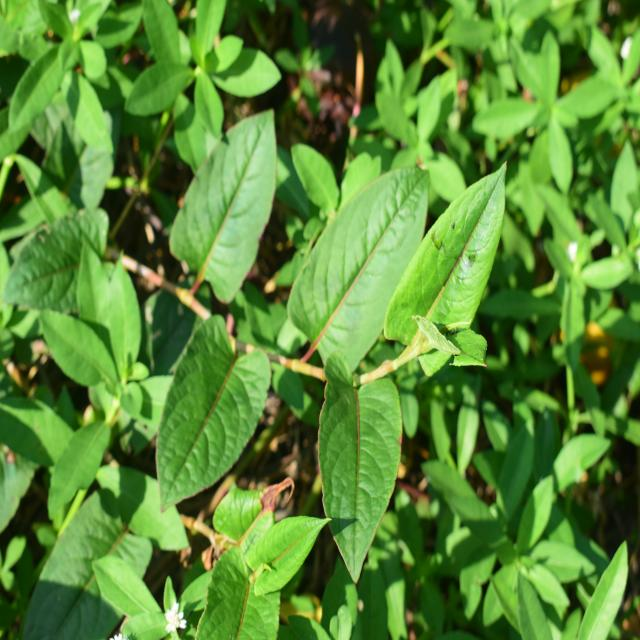Chinese_knotweed: (165, 122, 482, 532)
